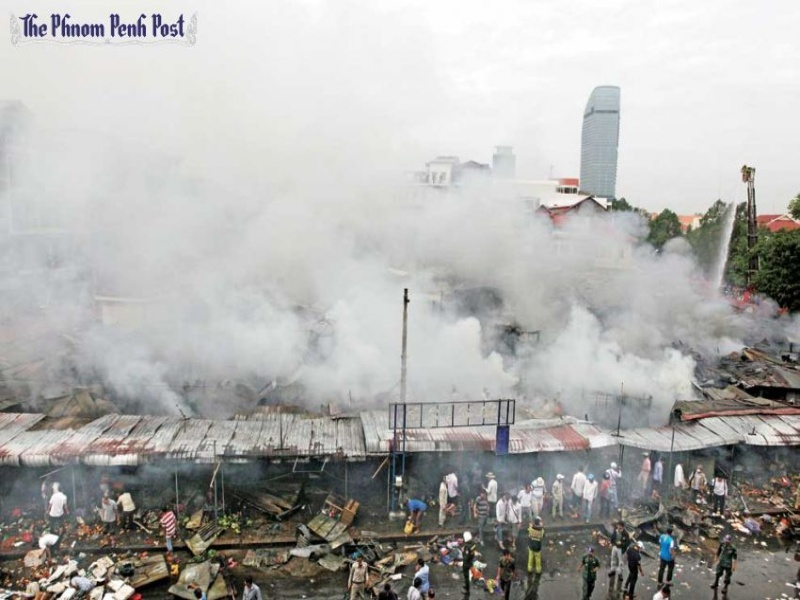smoke: (4, 54, 713, 400)
